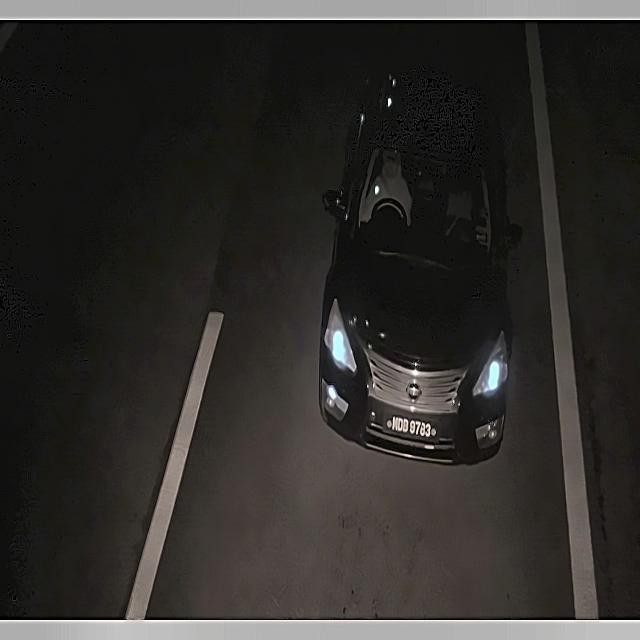car: (383, 406, 438, 448)
